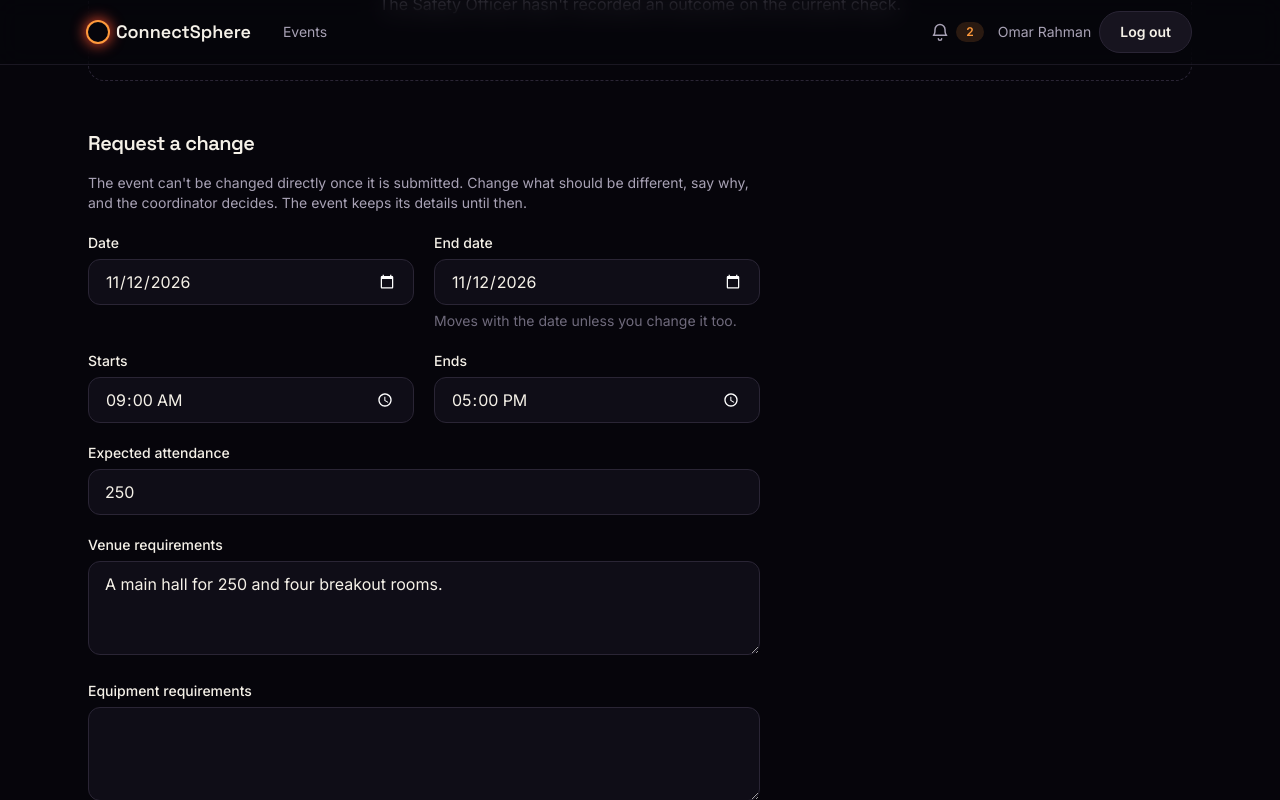
Test: SCRUM-56 AC6, AC7 the refusals, as the backend words them › shows the backend's message under the box when no reason is given
(page scrolled)
Replace the text in the time field labelled "Ends" with "18:00": (597, 400) x1=434 y1=377 x2=760 y2=423
(page scrolled)
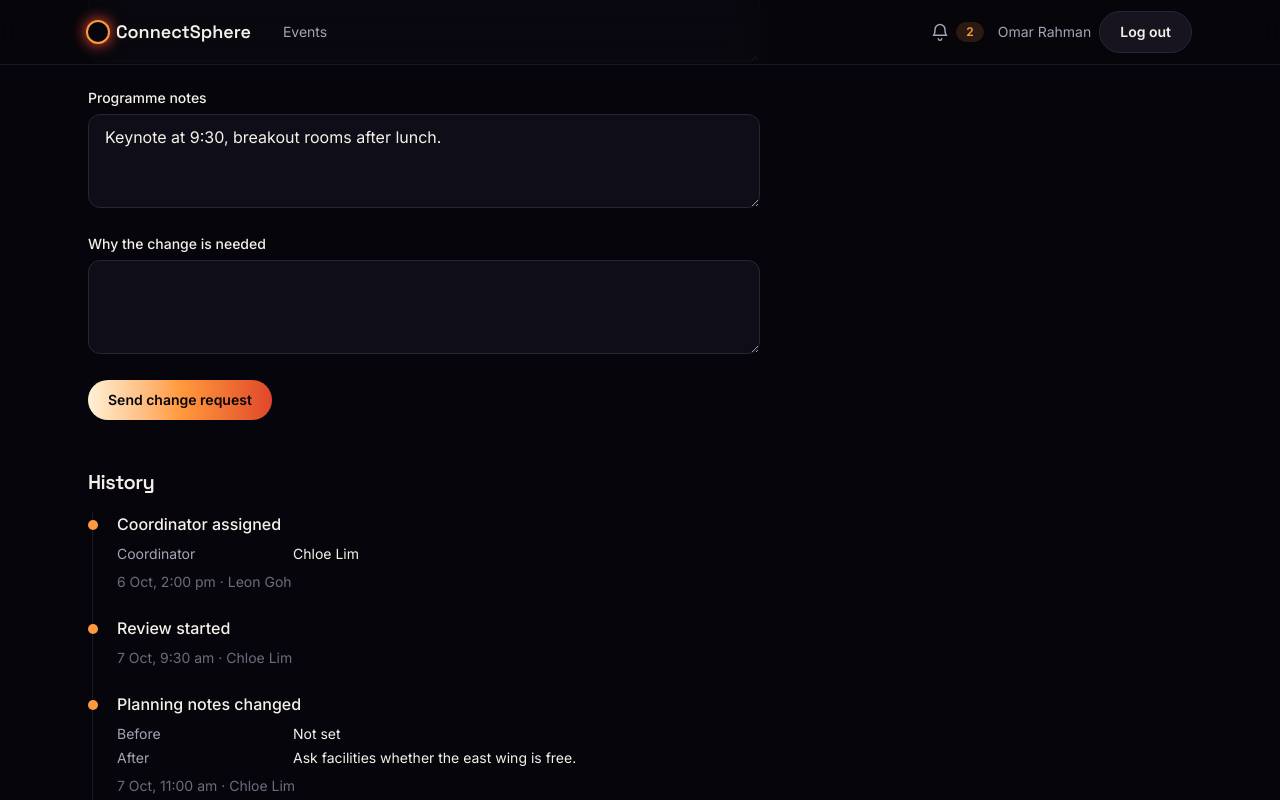
Click the button "Send change request": (180, 400) x1=88 y1=380 x2=272 y2=420
(page scrolled)
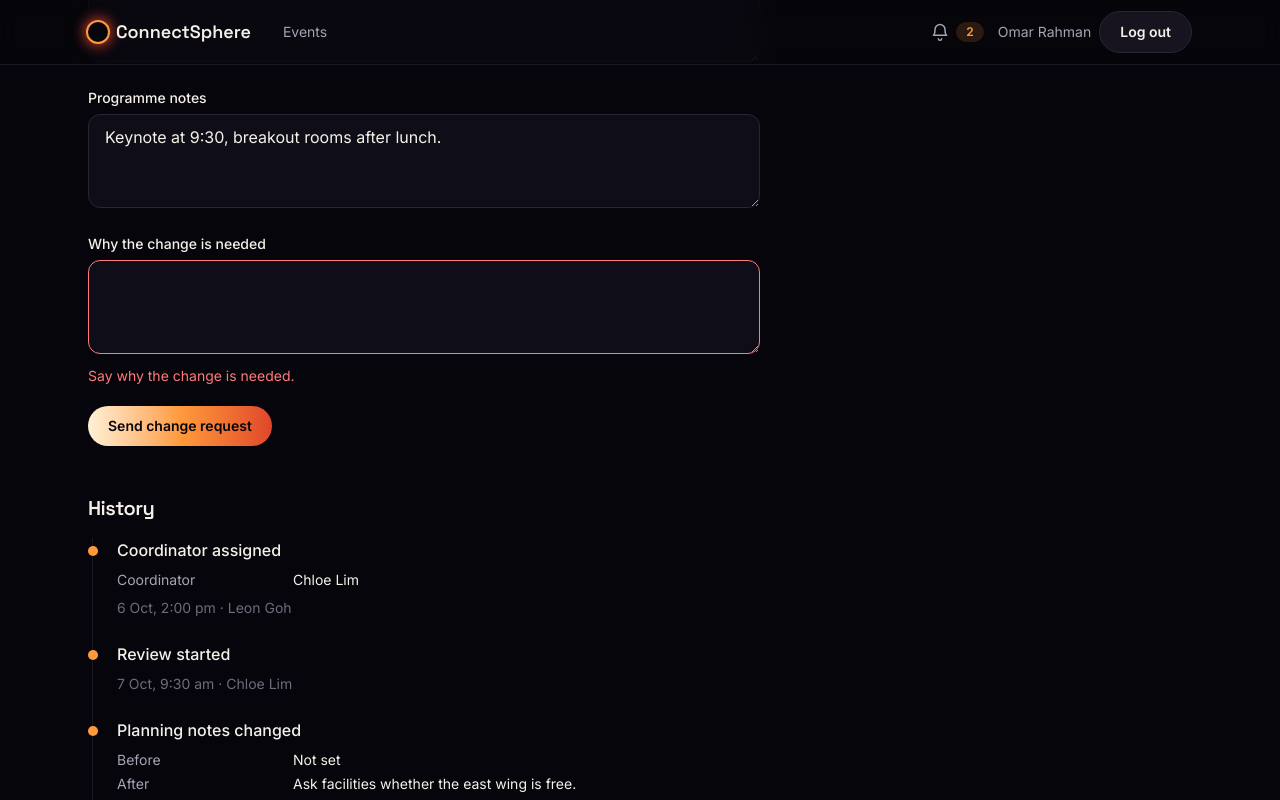
Check: the list item "Say why the change is needed." is shown, box x1=88 y1=367 x2=294 y2=384
